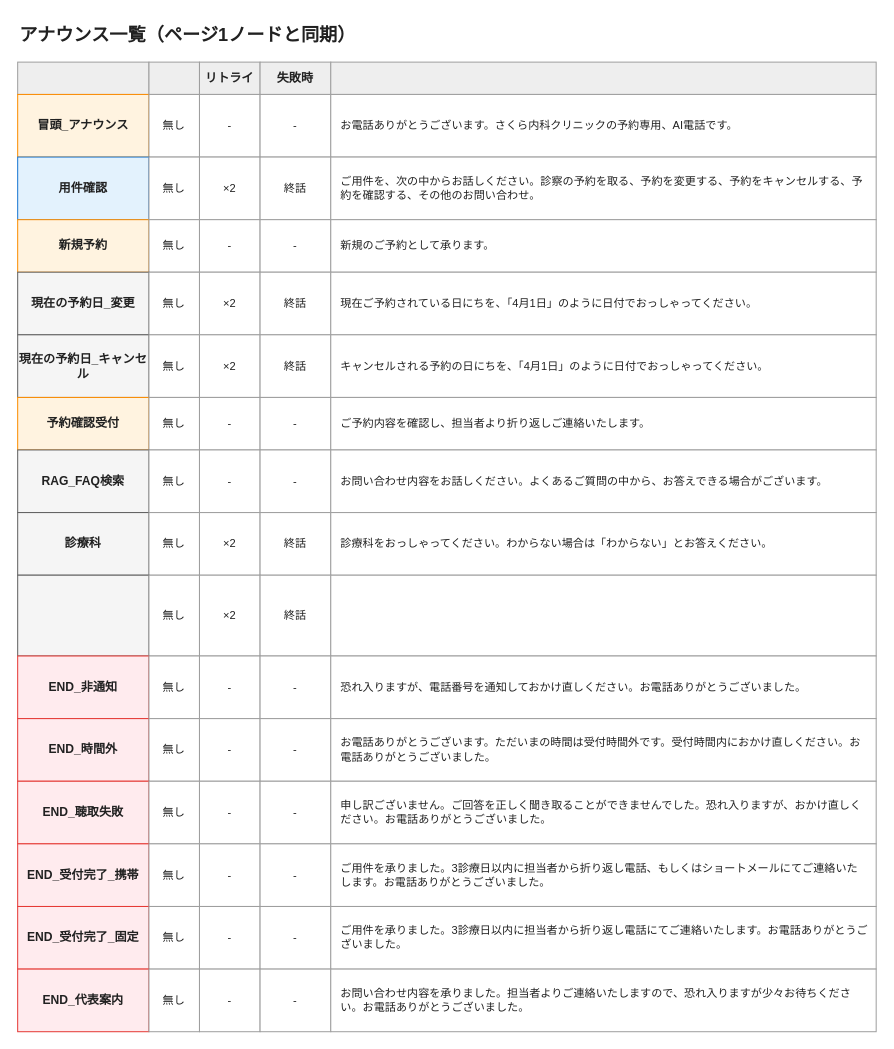
Some shapes in this 894 by 1049 pixel diagram are drawn without their labels. The shapes that lost their labels are listed below. From the top down, each one's centre as x and y in pixels, then its label:
point 83,77: 聴取項目
point 173,77: 復唱
point 603,77: 発話文言
point 83,615: 希望日
point 603,615: 受診を希望される日を、「4月1日」のように日付でおっしゃってください。AIが正しく認識しない場合はダイヤルプッシュで月と日にちの4桁を入力してください。
